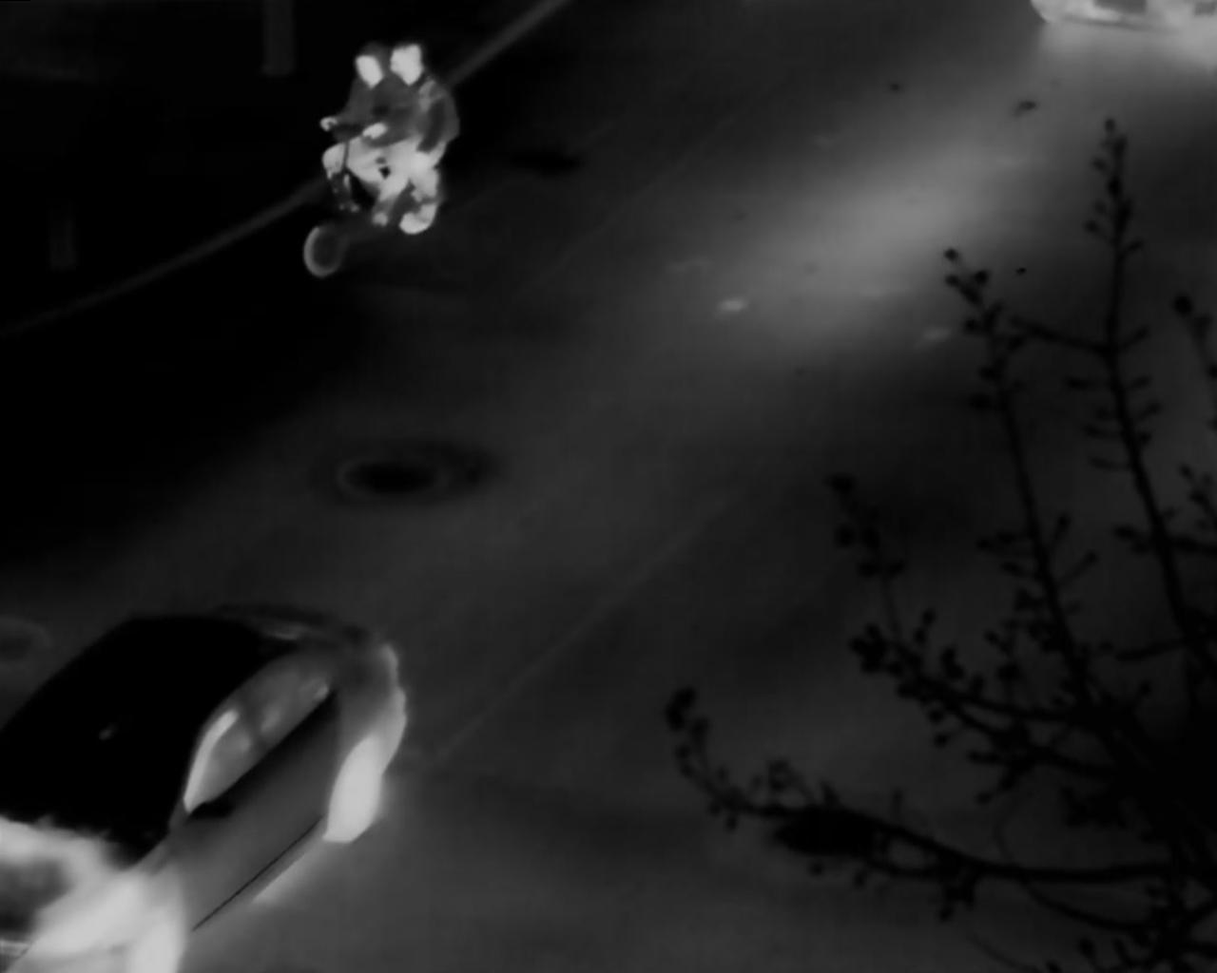person: (321, 43, 421, 230), (390, 41, 459, 235)
